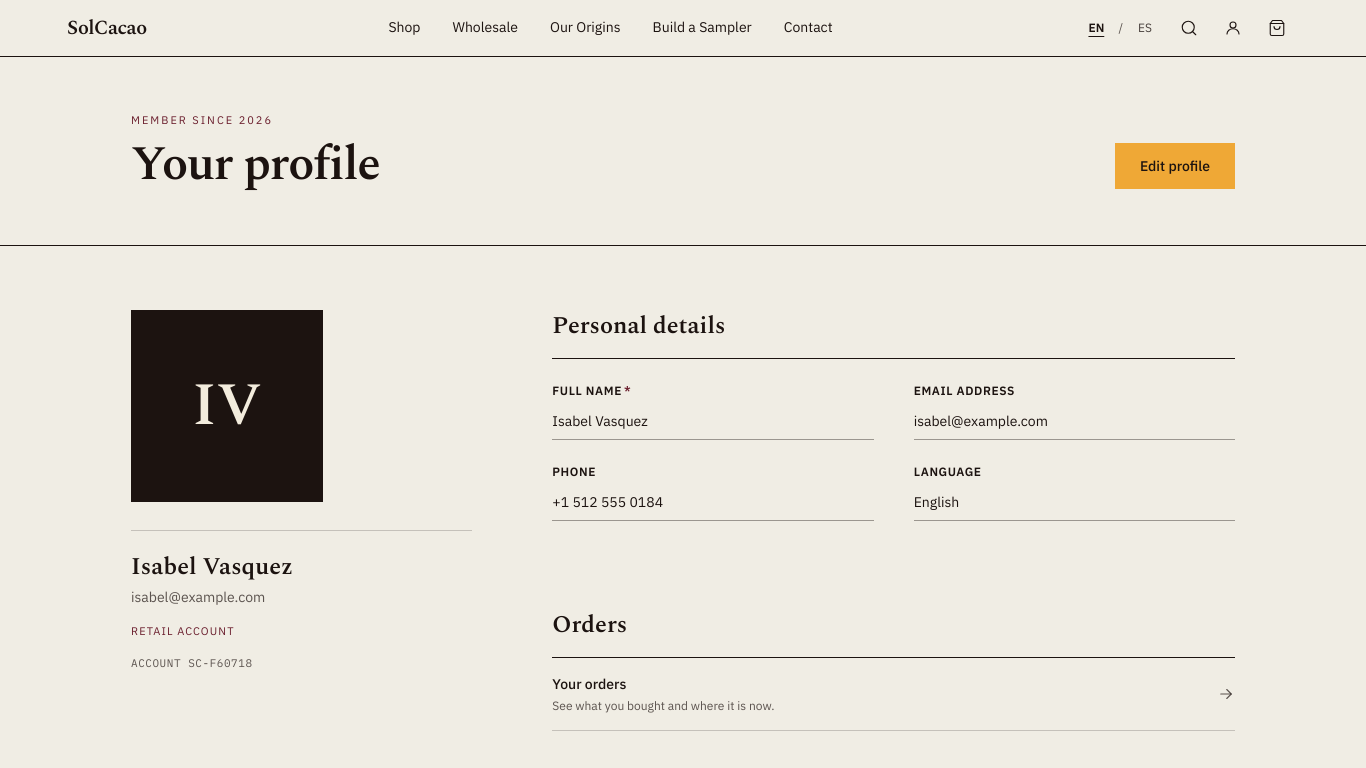
Scenario: editing the details › saves with the server, and shows the saved values, the message, and focus on the Edit button again
The image size is (1366, 768).
Expected: the heading "Your profile" is shown, 131,140 -> 380,188
Click the button "Edit profile": (1175, 166) 1115,142 -> 1235,188
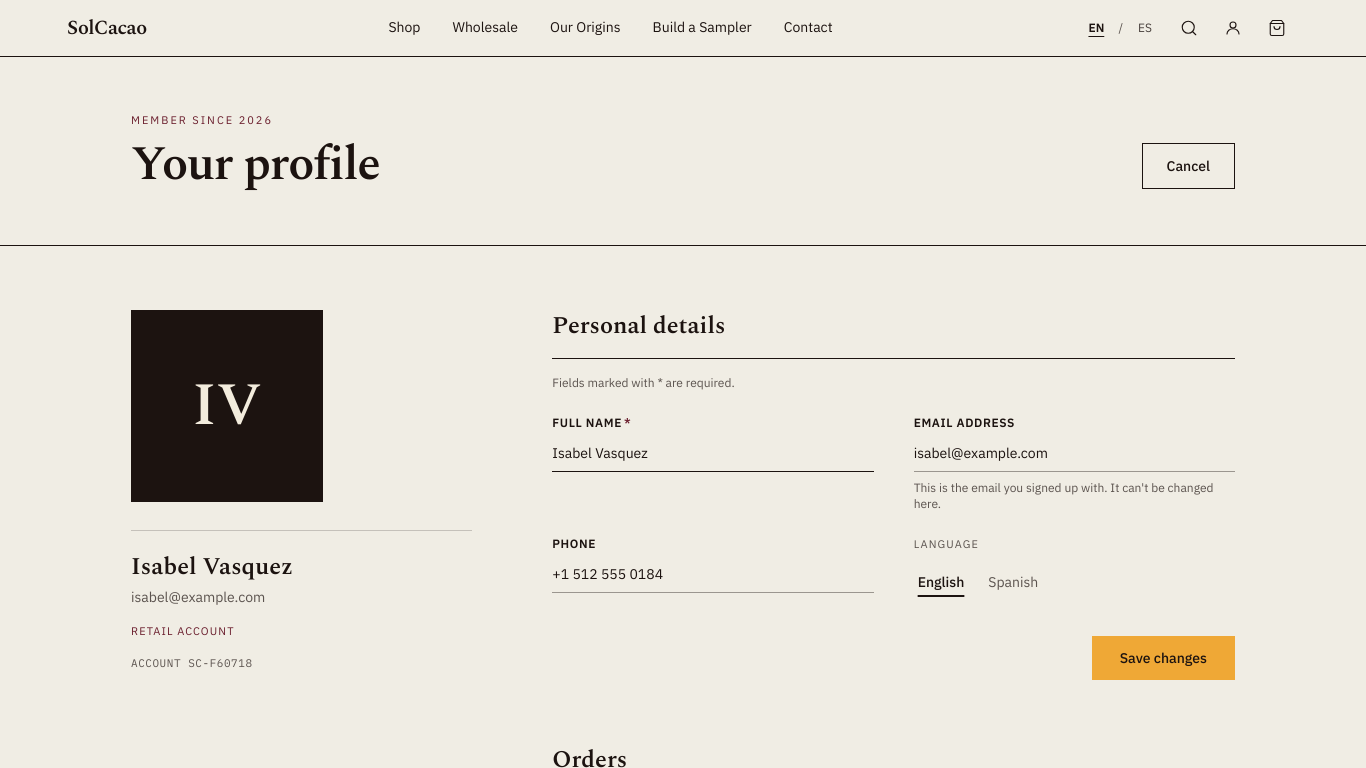
Replace the text in the field labelled "Phone" with "+1 512 555 0000": (713, 574) 552,556 -> 874,592
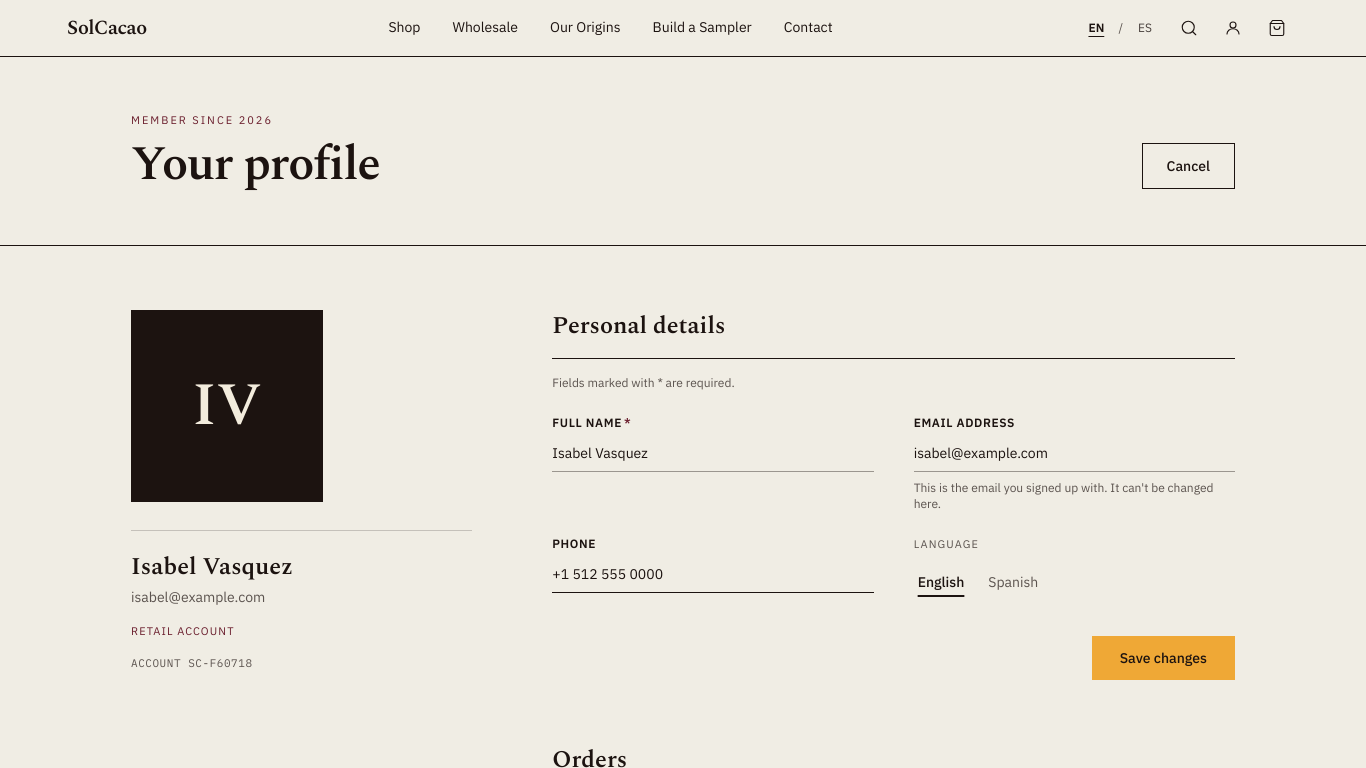
Click the button "Save changes": (1163, 658) 1092,636 -> 1235,680
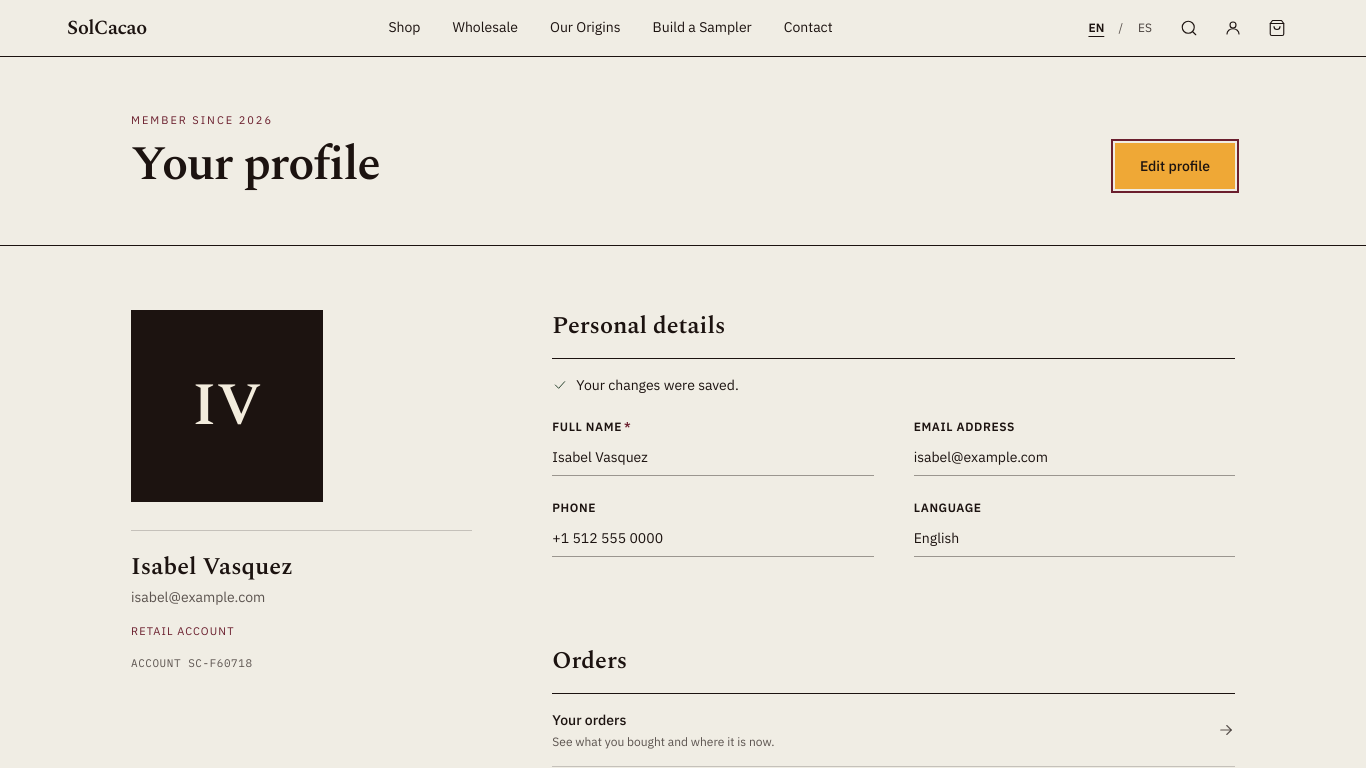
Now the field labelled "Phone" holds "+1 512 555 0000", box 552,520 -> 874,556
Now the text "Your changes were saved." is shown, box 552,376 -> 739,394
